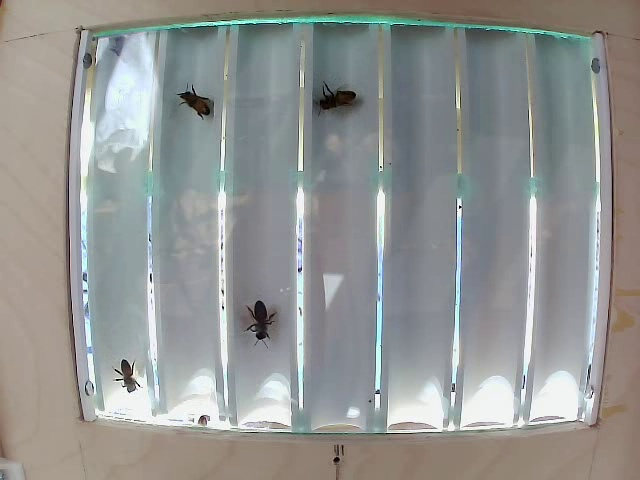bee: (235, 289, 274, 347), (170, 83, 215, 132), (311, 75, 361, 111), (113, 345, 143, 391)
